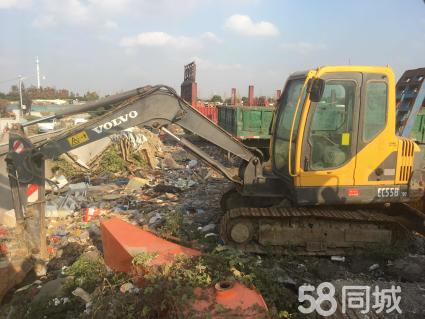excavator: (6, 51, 425, 282)
